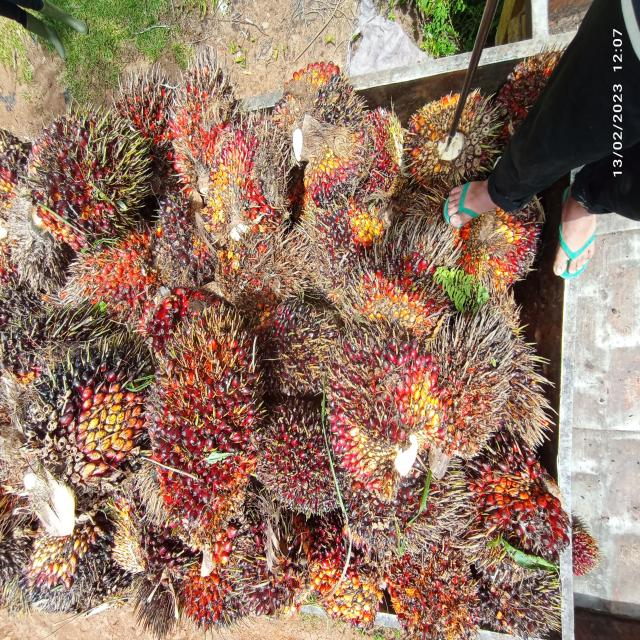fraksi 00: (0, 330, 181, 494), (293, 48, 395, 232), (15, 504, 121, 628), (153, 180, 225, 298)
fraksi 1: (18, 103, 174, 250), (260, 376, 343, 527), (266, 278, 326, 395)
fraksi 3: (138, 312, 286, 520), (313, 296, 457, 482), (482, 439, 588, 603), (199, 112, 288, 255)
fraksi 4: (167, 46, 236, 183), (63, 225, 161, 315), (166, 525, 241, 640), (120, 65, 180, 153)
